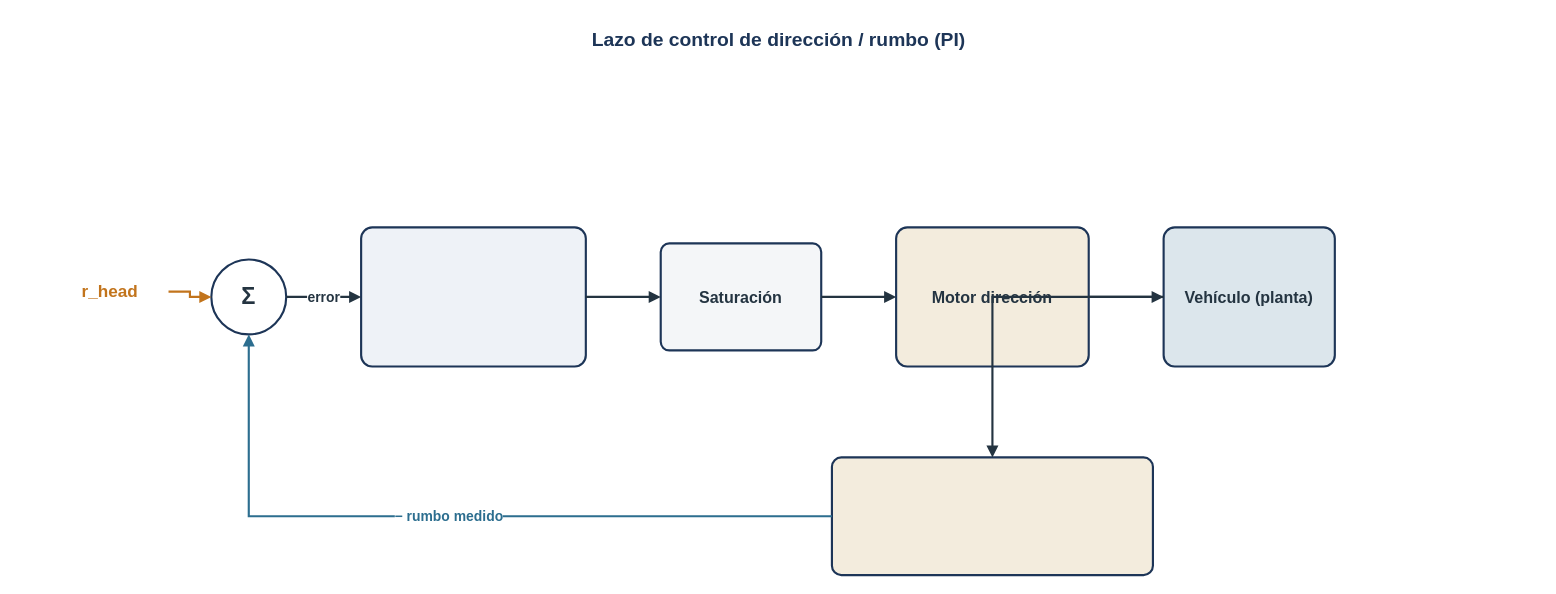
The diagram is 1556 pixels wide and 594 high, and some of its shapes have lost their labels. The shapes that lost their labels are listed below. From the top down, each one's centre as x and y in pixels, then its label:
the point at 473,296: PI dirección u = Kp·e + Ki·Σe
the point at 991,516: IMU hub.imu.heading()
